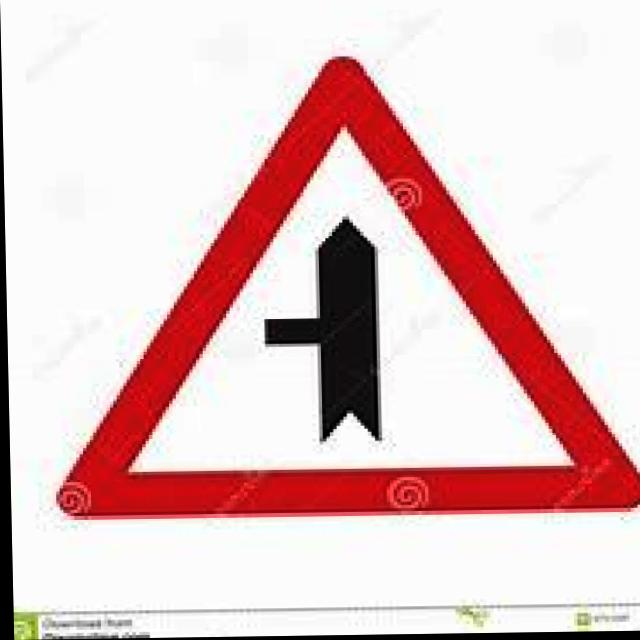SIDE_ROAD_LEFT: (44, 40, 640, 532)
